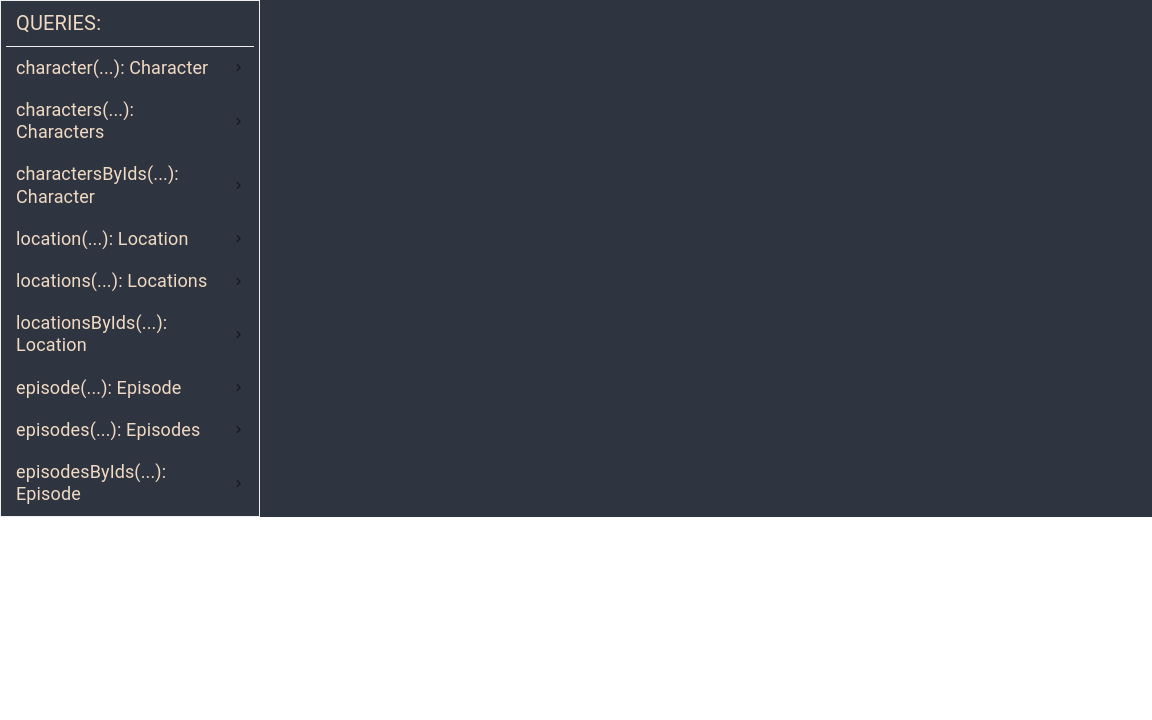
Test: Documentation › open SubSection
This screenshot has width=1152, height=720.
Check: the text "Get a specific character by ID" is not shown
Check: the text "name: String" is not shown
Click the heading "character(...): Character". click: {"x": 112, "y": 67}
box: [16,57,208,78]
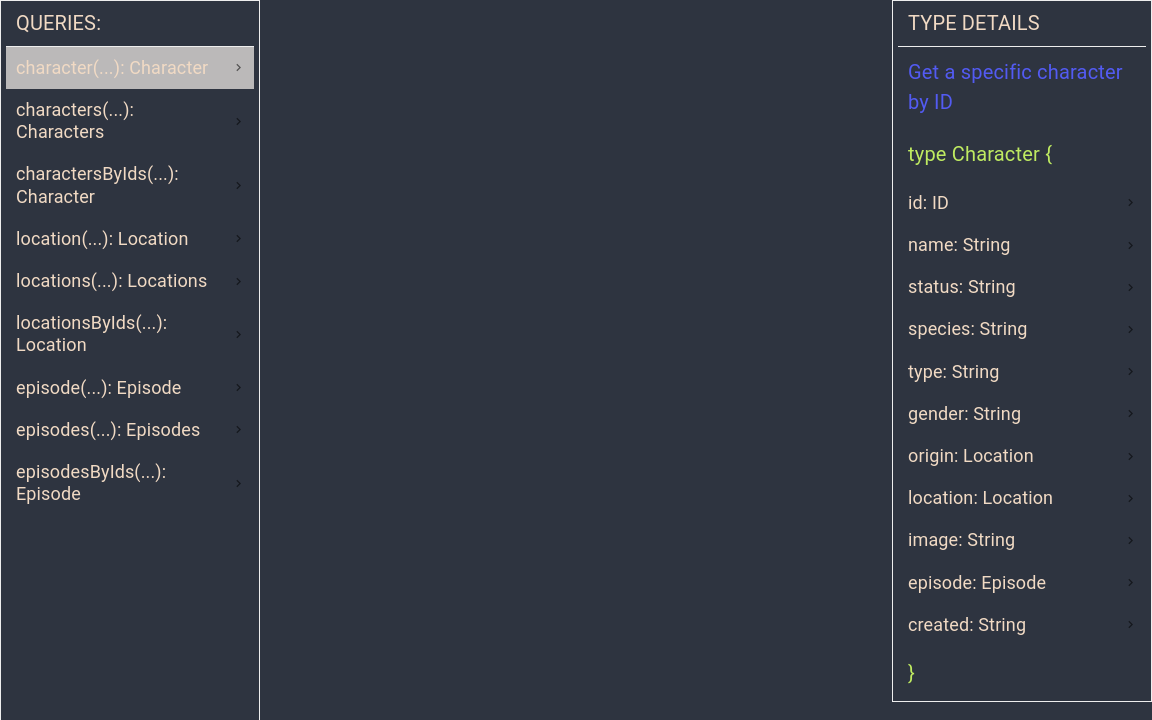
Check: the text "Get a specific character by ID" is shown, box [898,47,1146,127]
Check: the heading "name: String" is shown, box [908,234,1011,255]
